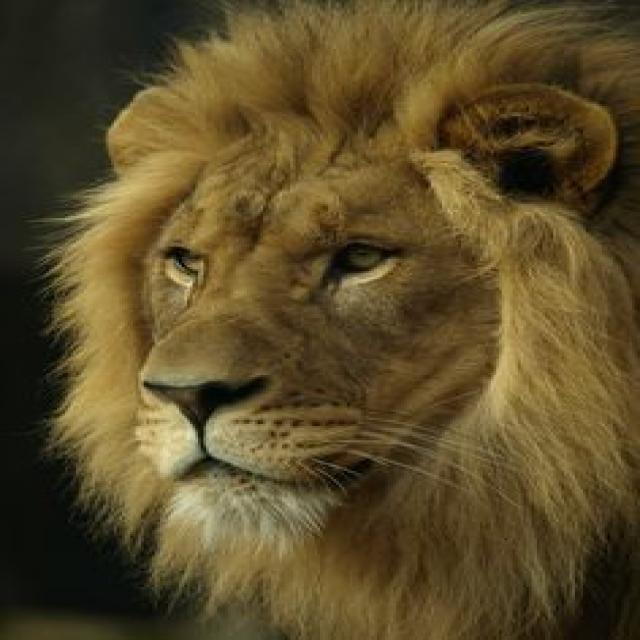Carnivorous: (38, 0, 640, 640)
